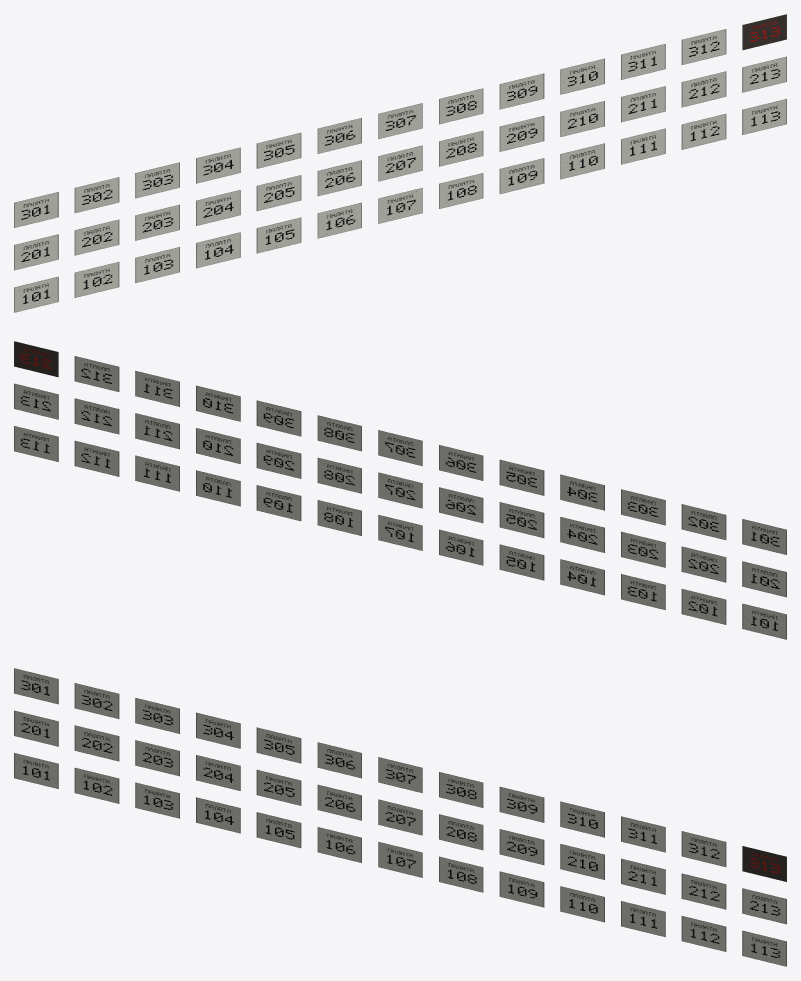
The model's file is Room_Signs.fbx.
The picture shows the model from 3 angles, top to bottom: view 1: azimuth 30°, elevation 25°; view 2: azimuth 150°, elevation 25°; view 3: azimuth 330°, elevation 25°; orthographic projection.
Parts seen in each view (by area): view 1: табличка 105, табличка 309, табличка 202, табличка 212, табличка 109, табличка 205, табличка 209, табличка 305, табличка 102, табличка 112, табличка 302, табличка 312 (+27 smaller); view 2: табличка 105, табличка 309, табличка 202, табличка 212, табличка 109, табличка 205, табличка 209, табличка 305, табличка 102, табличка 112, табличка 302, табличка 312 (+27 smaller); view 3: табличка 109, табличка 305, табличка 202, табличка 212, табличка 105, табличка 205, табличка 209, табличка 309, табличка 102, табличка 112, табличка 302, табличка 312 (+27 smaller).
Boxes of the visible parts, x1,y1,x2,y2 form: табличка 105: (256,217,301,253); табличка 309: (499,73,544,109); табличка 202: (74,219,119,255); табличка 212: (681,71,726,107); табличка 109: (499,158,544,193); табличка 205: (256,175,301,210); табличка 209: (499,116,544,151); табличка 305: (256,133,301,168); табличка 102: (74,262,119,297); табличка 112: (681,114,726,149); табличка 302: (74,177,119,212); табличка 312: (681,29,726,64); табличка 105: (499,544,544,580); табличка 309: (256,400,301,436); табличка 202: (681,546,726,582); табличка 212: (74,398,119,434); табличка 109: (256,485,301,520); табличка 205: (499,502,544,537); табличка 209: (256,443,301,478); табличка 305: (499,460,544,495); табличка 102: (681,589,726,624); табличка 112: (74,441,119,476); табличка 302: (681,504,726,539); табличка 312: (74,356,119,391); табличка 109: (499,871,544,907); табличка 305: (256,727,301,763); табличка 202: (74,725,119,761); табличка 212: (681,873,726,909); табличка 105: (256,812,301,847); табличка 205: (256,770,301,805); табличка 209: (499,829,544,864); табличка 309: (499,787,544,822); табличка 102: (74,768,119,803); табличка 112: (681,916,726,951); табличка 302: (74,683,119,718); табличка 312: (681,831,726,866).
Size of the model in its own units: 3.82 by 0.52 by 0.
Materials: 1 (1 with a texture image).
